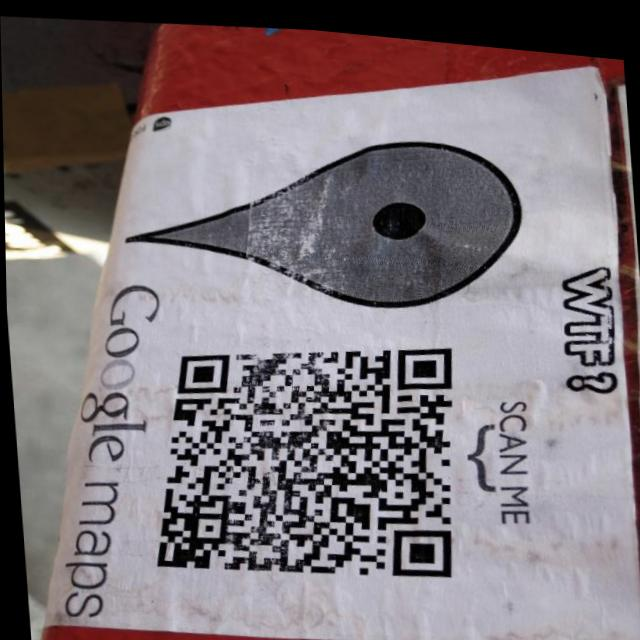qrcode: (138, 316, 466, 588)
